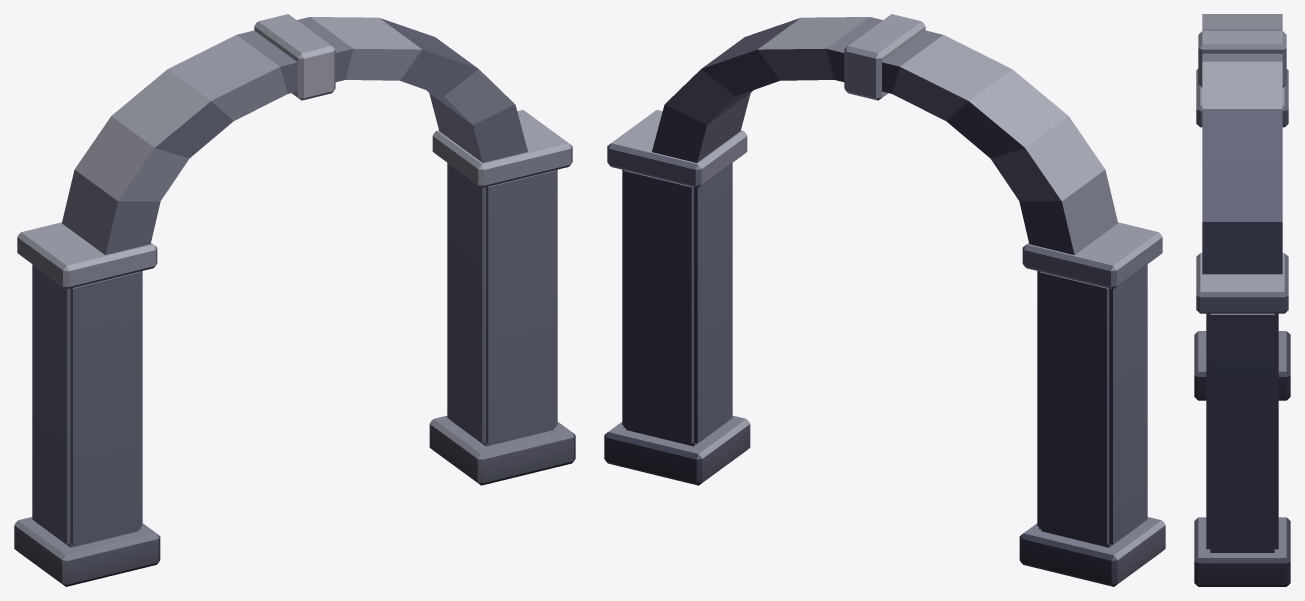
Rendered from stone_arch.glb.
3 renders of one model, left to right at view 1: azimuth 30°, elevation 25°; view 2: azimuth 150°, elevation 25°; view 3: azimuth 270°, elevation 25°, orthographic. The views are drawn at different scales.
Parts seen in each view (by area): view 1: stone_arch; view 2: stone_arch; view 3: stone_arch.
Boxes of the visible parts, left/top/right/bottom form: stone_arch: left=14, top=14, right=575, bottom=586; stone_arch: left=604, top=14, right=1165, bottom=586; stone_arch: left=1194, top=14, right=1290, bottom=586.
Size of the model in its own units: 2.72 by 2.4 by 0.48.
